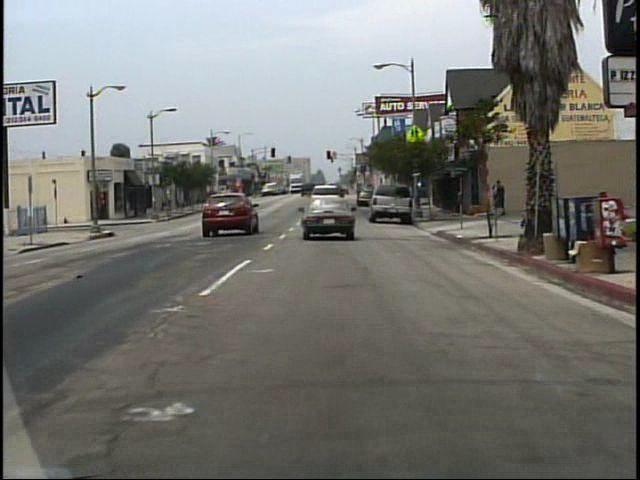person: (496, 178, 508, 216), (488, 183, 499, 216)
